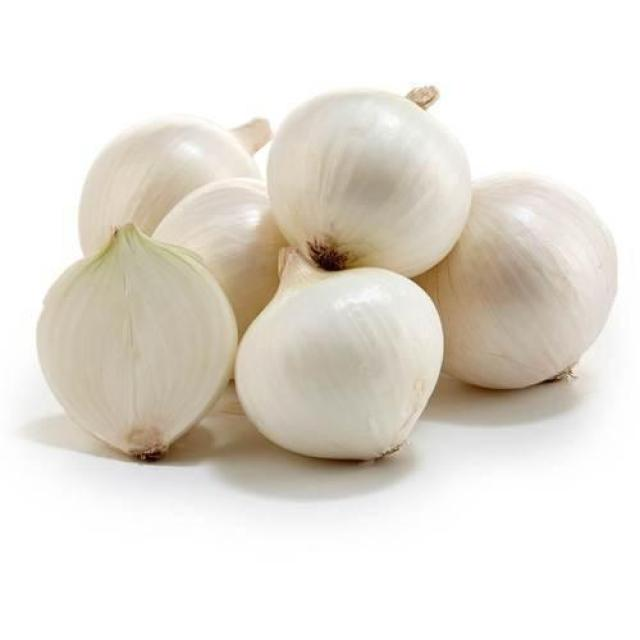Onion: (37, 219, 237, 463), (233, 243, 443, 465), (414, 177, 620, 390), (266, 83, 474, 279), (148, 173, 290, 381), (77, 116, 274, 256)
